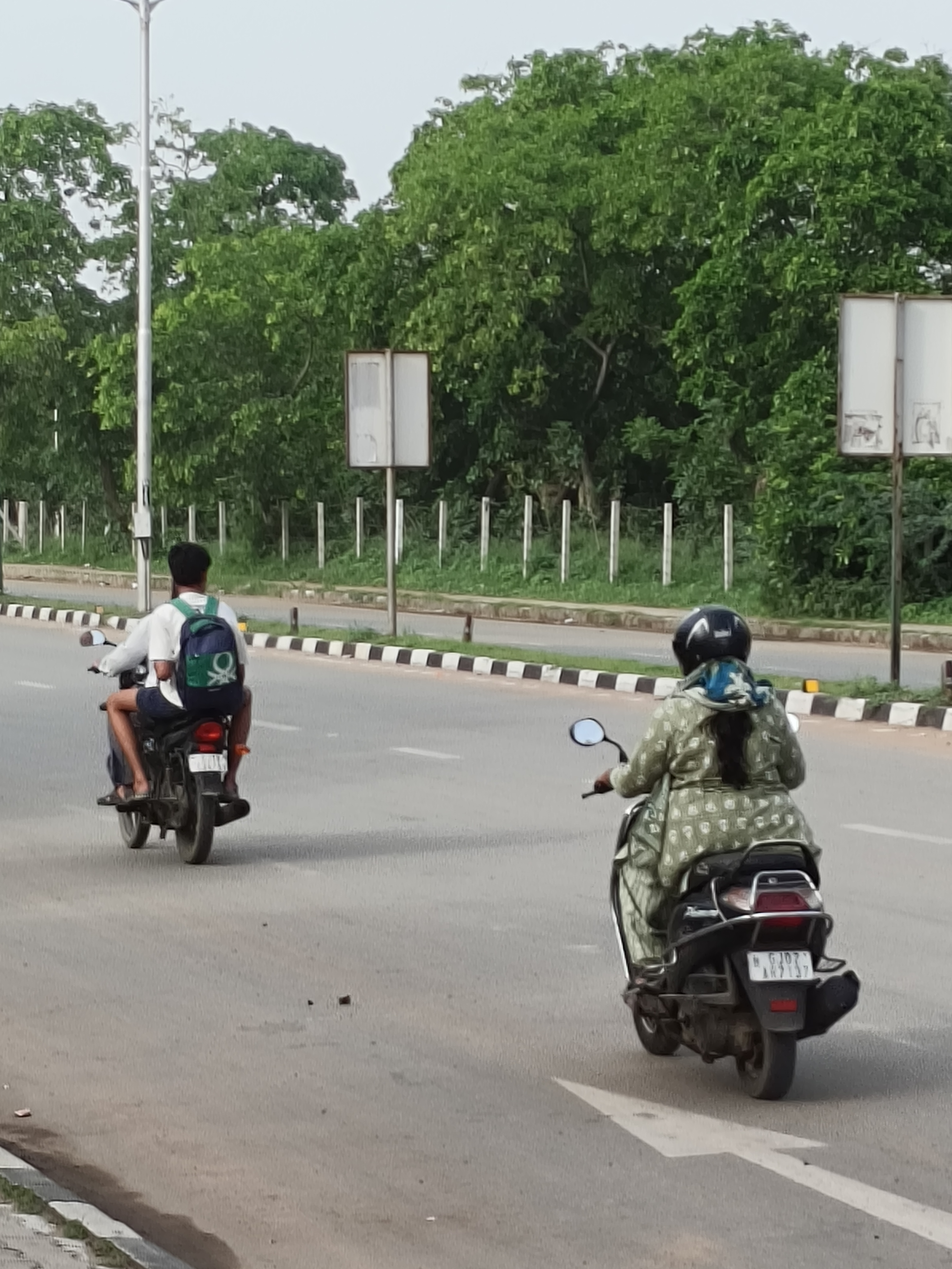BikeWithRider: (561, 595, 872, 1109), (74, 532, 264, 874)
Helmet: (661, 596, 762, 685)
NoHelmet: (161, 535, 217, 601)
